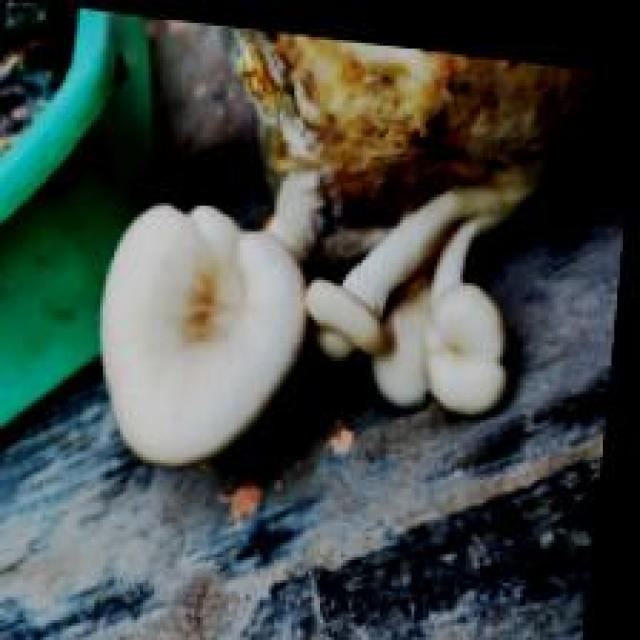field-mushroom: (97, 200, 306, 466)
